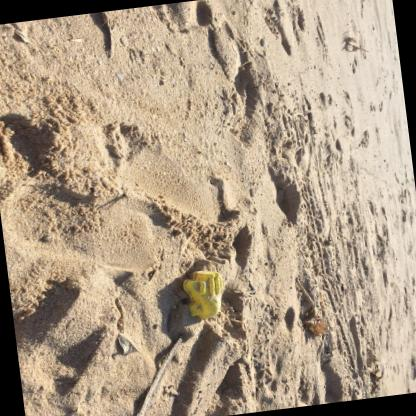Paper: (250, 188, 252, 197)
Plastic: (182, 270, 222, 320)
